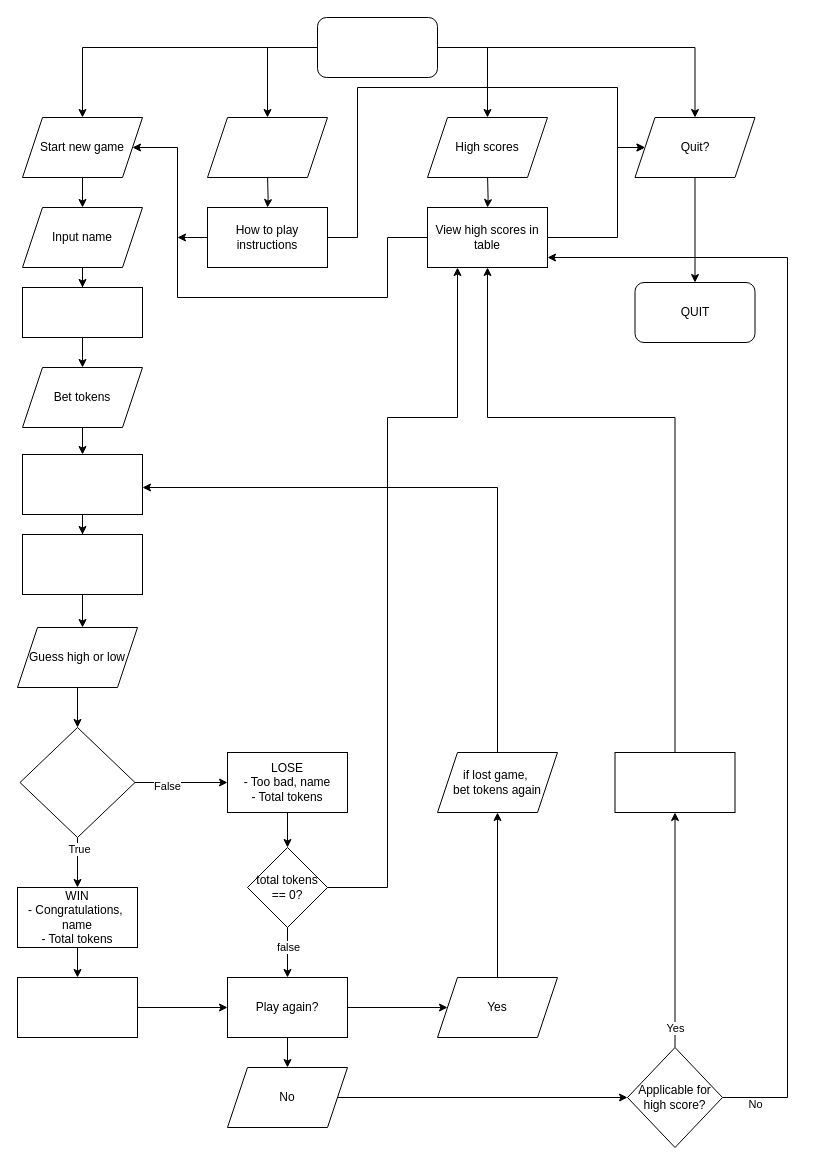
This 813x1165 diagram has some shape labels left out. Here are the shapes that lost their labels. From the top down, the centre of each, then its label:
At (377,47): "START Title screen".
At (267,147): "How to play".
At (82,312): "Welcome name Total tokens = 10".
At (82,484): "Show new total tokens".
At (82,564): "Dealer card dealt facedown Player card dealt faceup".
At (77,782): "Correct guess?".
At (674,782): "Add high score to high score file".
At (77,1007): "Bet tokens x 2 Win streak + 1".
